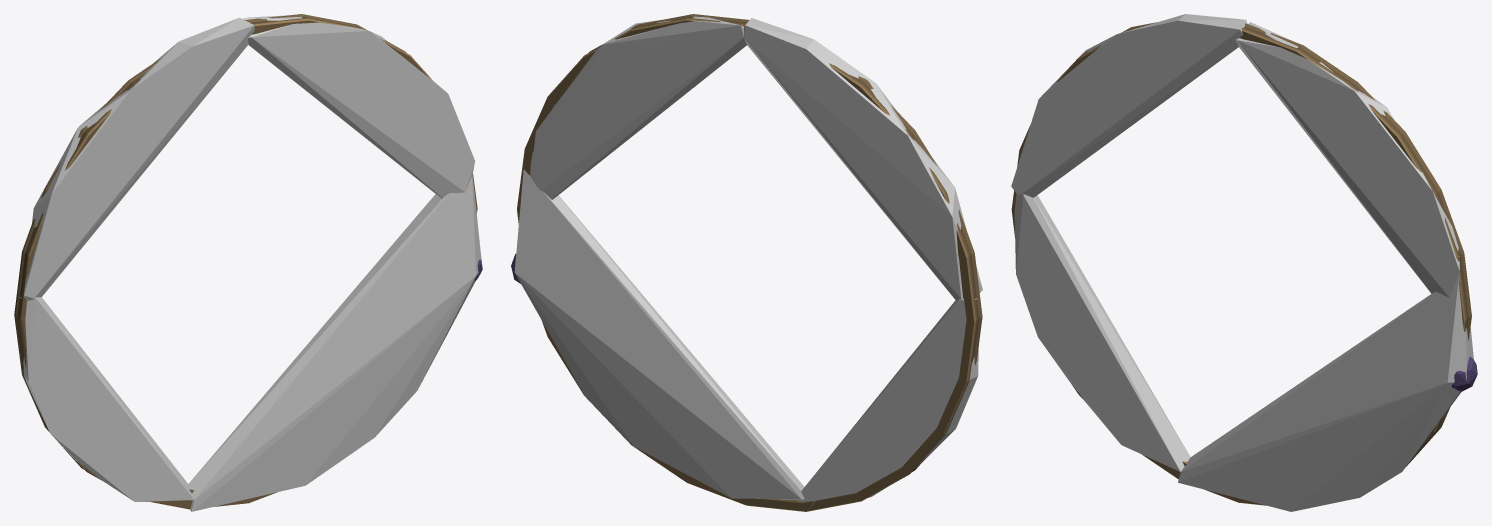
The model's file is SM_Bld_Planetarium_01_Ring_04.fbx.
The picture shows the model from 3 angles, left to right: view 1: azimuth 30°, elevation 25°; view 2: azimuth 150°, elevation 25°; view 3: azimuth 330°, elevation 25°; orthographic projection.
Visible parts, largest first — view 1: SM_Bld_Planetarium_01_Ring_04_ConvexHulls, SM_Bld_Planetarium_01_Ring_04; view 2: SM_Bld_Planetarium_01_Ring_04_ConvexHulls, SM_Bld_Planetarium_01_Ring_04; view 3: SM_Bld_Planetarium_01_Ring_04_ConvexHulls, SM_Bld_Planetarium_01_Ring_04.
Boxes of the visible parts, <box> form: SM_Bld_Planetarium_01_Ring_04_ConvexHulls: <box>20,15,482,511</box>; SM_Bld_Planetarium_01_Ring_04: <box>14,14,482,509</box>; SM_Bld_Planetarium_01_Ring_04_ConvexHulls: <box>514,16,982,508</box>; SM_Bld_Planetarium_01_Ring_04: <box>511,14,982,511</box>; SM_Bld_Planetarium_01_Ring_04_ConvexHulls: <box>1011,14,1473,511</box>; SM_Bld_Planetarium_01_Ring_04: <box>1011,22,1477,505</box>.
Size of the model in its own units: 856 by 75.07 by 848.
2 materials, 1 textured.
